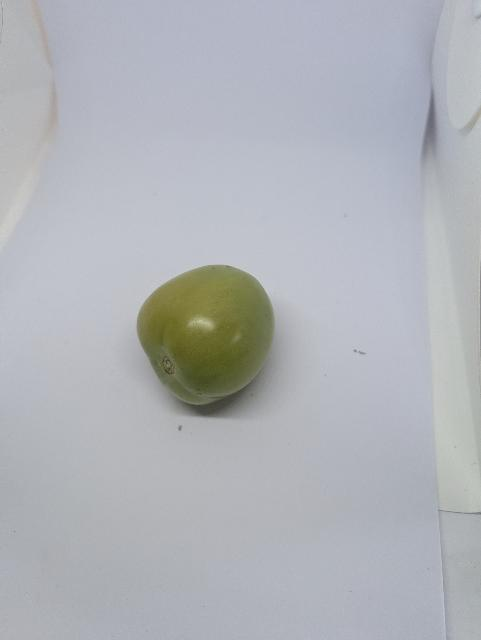green: (123, 253, 285, 422)
